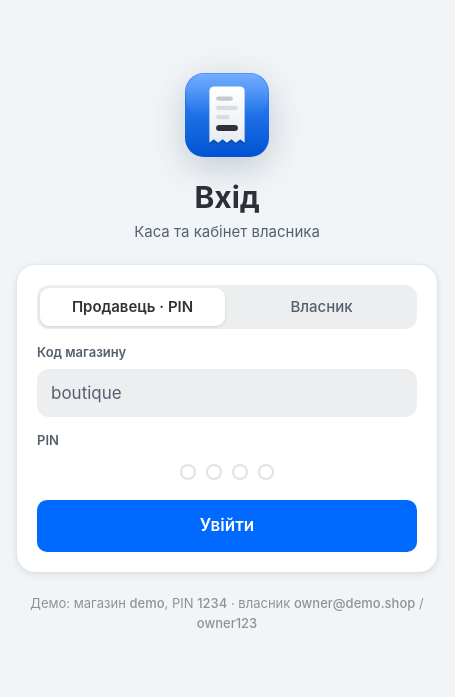
LoginPage — store code › lets the owner unlock the code for editing and focuses it
Click the button "Власник" at (322, 307), box top-left (229, 288), bottom-right (414, 326)
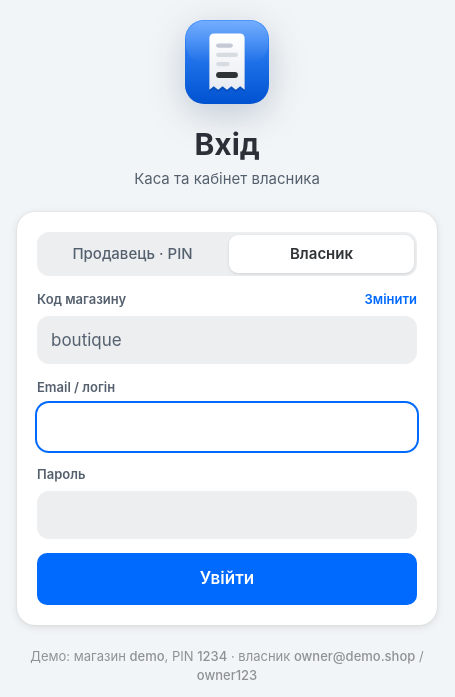
Click the button with test id "store-code-change" at (391, 300), box top-left (364, 290), bottom-right (417, 310)
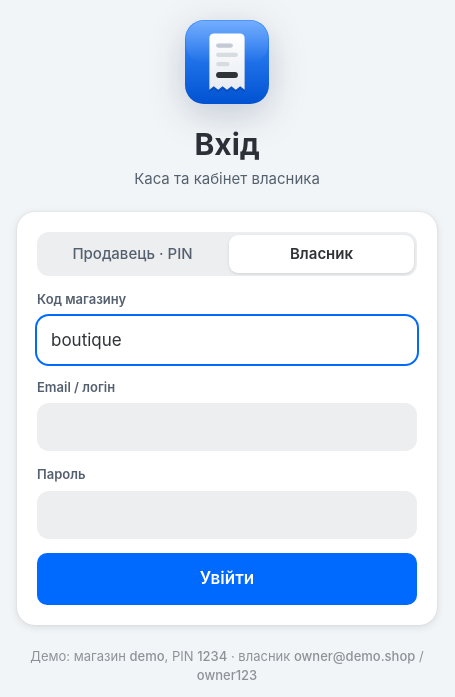
Result: the field labelled "Код магазину" is enabled at top-left (37, 316), bottom-right (417, 364)
Result: the button with test id "store-code-change" is gone
